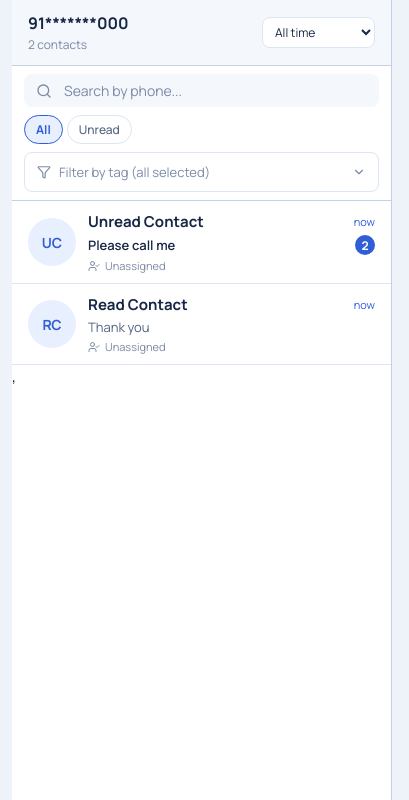
ContactList unread filter › shows the normal conversation list under All and only unread conversations under Unread
The width and height of the screenshot is (409, 800).
Check: the text "Unread Contact" is shown, box 88,211 -> 204,232
Check: the text "Read Contact" is shown, box 88,294 -> 188,315
Step 1. Click the button "Unread" → (99, 130), box 67,115 -> 132,144
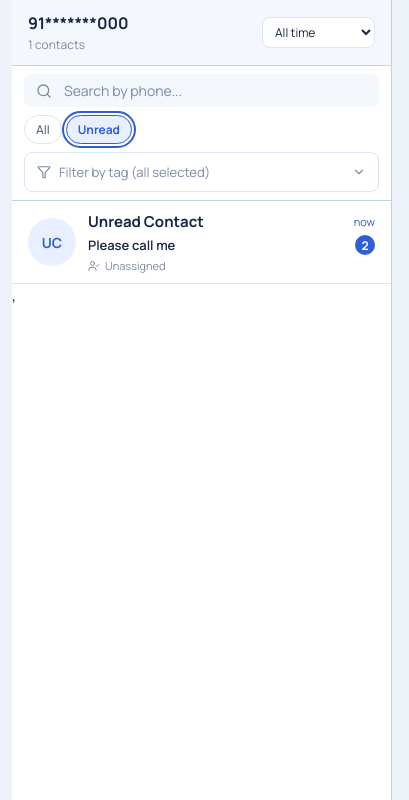
Check: the text "Unread Contact" is shown, box 88,211 -> 204,232
Step 2. Click the button "All" → (43, 130), box 24,115 -> 62,144
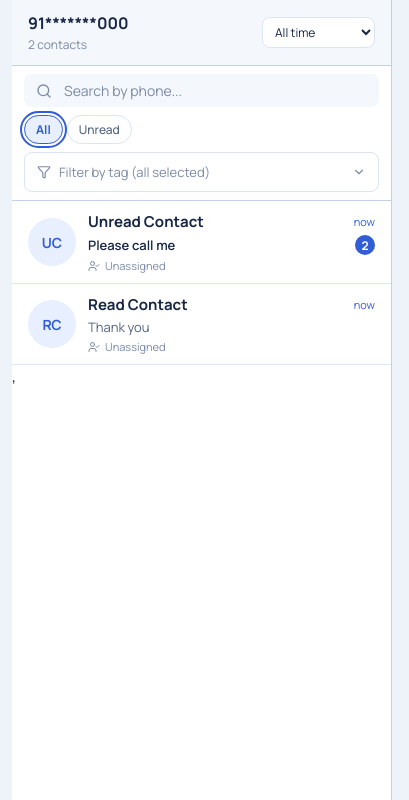
Check: the text "Read Contact" is shown, box 88,294 -> 188,315
